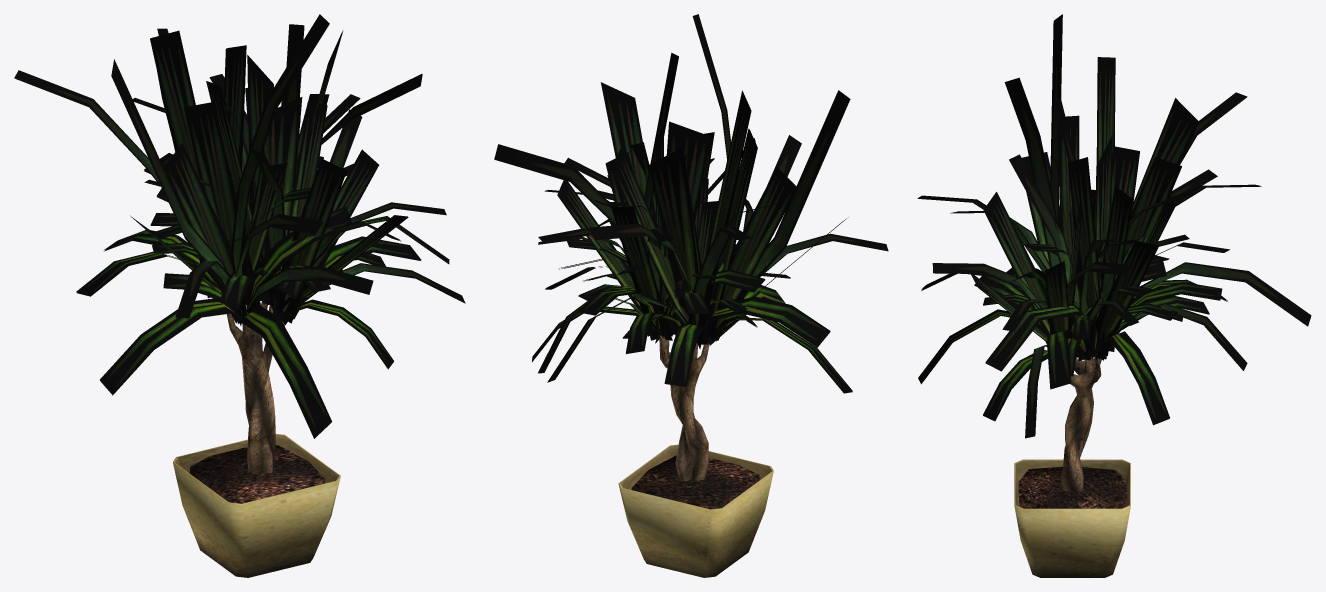
The model's file is plant_dracaena02.dae.
The picture shows the model from 3 angles, left to right: view 1: azimuth 30°, elevation 25°; view 2: azimuth 150°, elevation 25°; view 3: azimuth 270°, elevation 25°; orthographic projection. The views are drawn at different scales.
Visible parts, largest first — view 1: plant_dracaena02; view 2: plant_dracaena02; view 3: plant_dracaena02.
Boxes of the visible parts, x1,y1,x2,y2 form: plant_dracaena02: [14, 14, 465, 577]; plant_dracaena02: [494, 14, 888, 577]; plant_dracaena02: [917, 14, 1311, 577].
Size of the model in its own units: 0.5745 by 0.869 by 0.6232.
